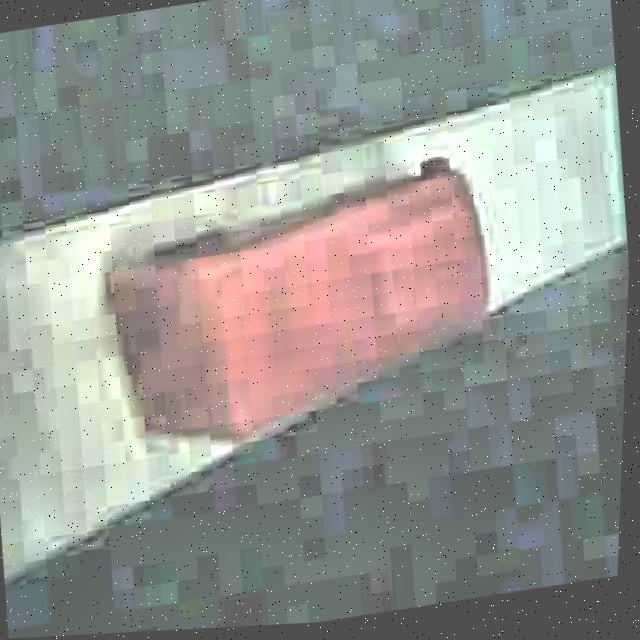bus: (89, 145, 511, 461)
